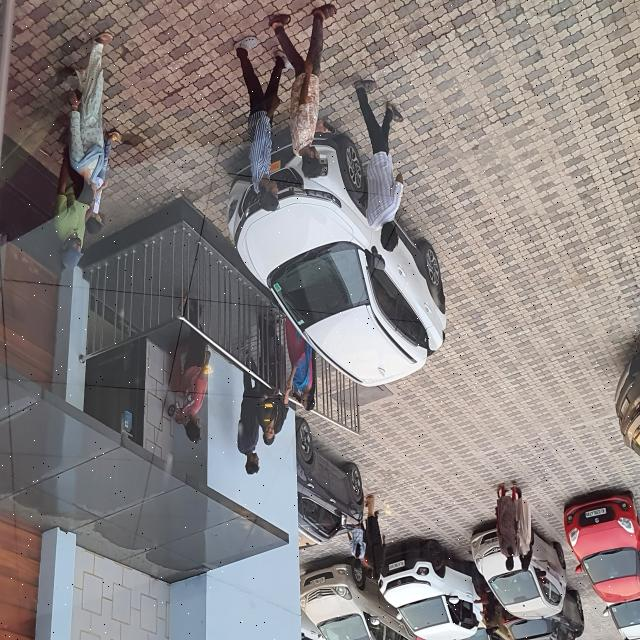humans: (270, 0, 340, 190), (348, 68, 406, 257), (236, 27, 286, 213), (61, 31, 107, 204), (48, 111, 91, 273), (248, 309, 290, 446), (176, 291, 212, 446), (87, 128, 124, 242), (231, 341, 261, 478), (282, 313, 317, 415), (465, 544, 497, 636), (491, 478, 521, 571), (363, 491, 388, 583), (514, 484, 532, 575), (346, 518, 366, 572)
